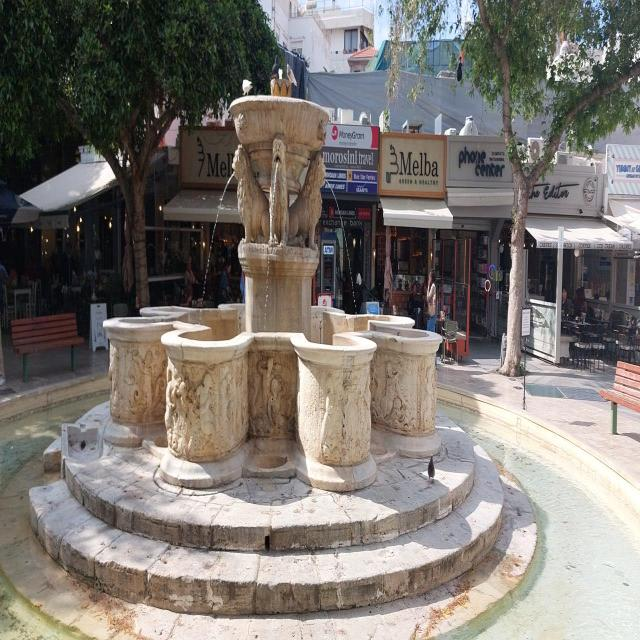Liontaria: (102, 65, 443, 500)
